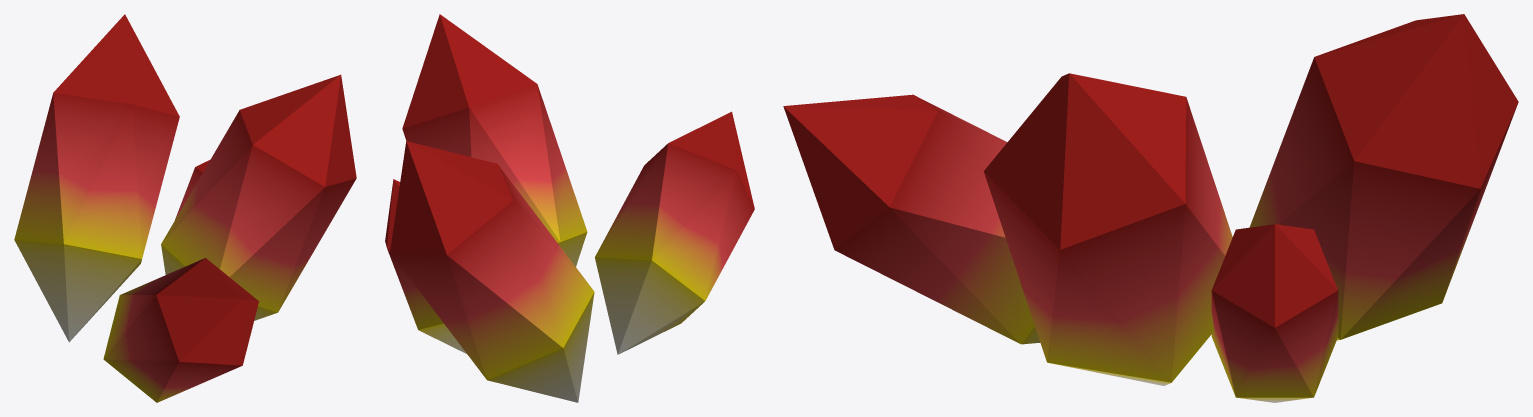
Rendered from Cauldron Fire.fbx.
The picture shows the model from 3 angles, left to right: view 1: azimuth 30°, elevation 25°; view 2: azimuth 150°, elevation 25°; view 3: azimuth 270°, elevation 25°; orthographic projection. The views are drawn at different scales.
Visible parts, largest first — view 1: Cauldron Fire; view 2: Cauldron Fire; view 3: Cauldron Fire.
Boxes of the visible parts, left/top/right/bottom form: Cauldron Fire: left=14, top=14, right=356, bottom=402; Cauldron Fire: left=385, top=14, right=754, bottom=402; Cauldron Fire: left=783, top=14, right=1518, bottom=402.
Bounding box in the file's own units: 0.9613 × 0.9609 × 1.49.
